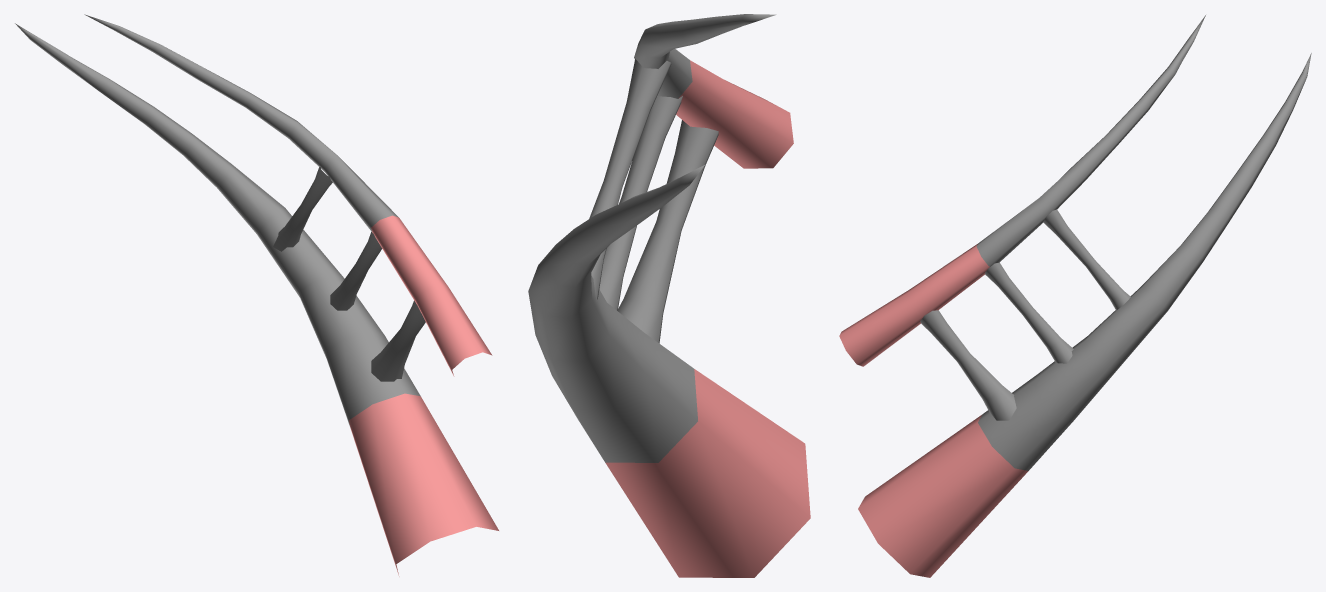
3 views of the same model, side by side, from view 1: azimuth 30°, elevation 25°; view 2: azimuth 150°, elevation 25°; view 3: azimuth 270°, elevation 25° (orthographic). The views are drawn at different scales.
Parts seen in each view (by area): view 1: base_03; view 2: base_03; view 3: base_03.
Part boxes in pixels (x1=…): base_03: x1=15, y1=14, x2=498, y2=576; base_03: x1=528, y1=14, x2=810, y2=577; base_03: x1=839, y1=15, x2=1311, y2=577.
Bounding box in the file's own units: 9.2 × 17.37 × 15.85.
